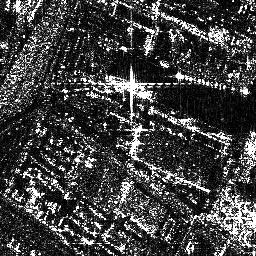ship: (106, 71, 158, 103)
